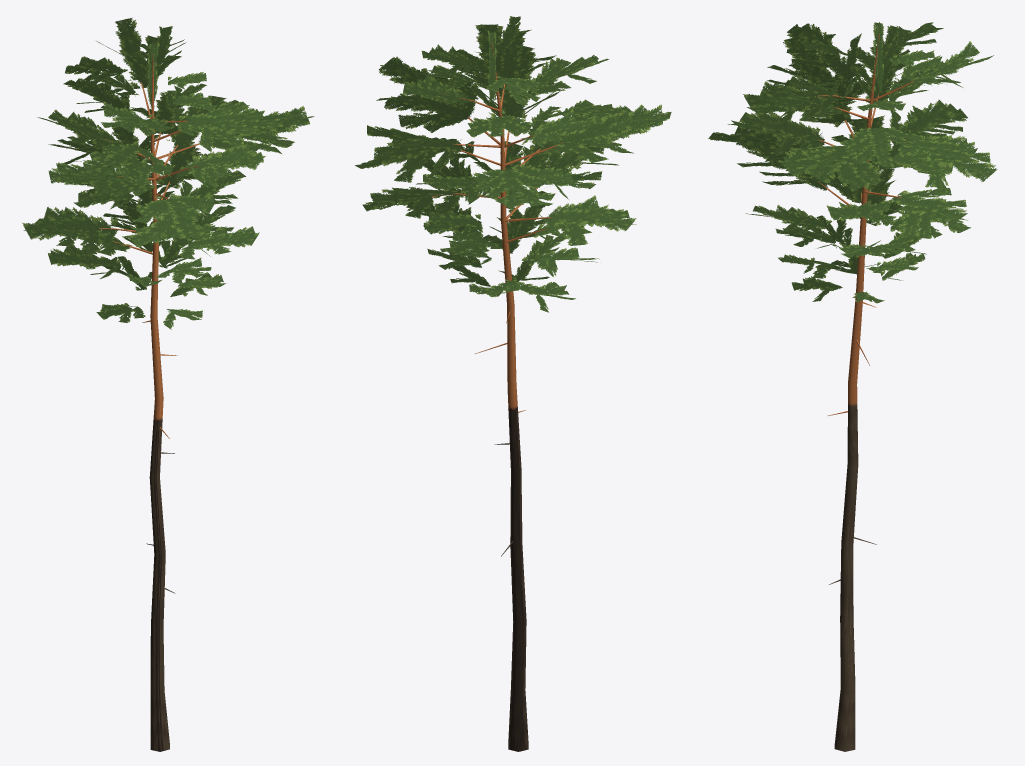
Rendered from near.glb.
3 views of the same model, side by side, from view 1: azimuth 30°, elevation 25°; view 2: azimuth 150°, elevation 25°; view 3: azimuth 270°, elevation 25° (orthographic). The views are drawn at different scales.
Parts seen in each view (by area): view 1: pine_02; view 2: pine_02; view 3: pine_02.
Boxes of the visible parts, bbox=[...] form: pine_02: bbox=[22, 18, 314, 751]; pine_02: bbox=[355, 16, 671, 751]; pine_02: bbox=[708, 22, 997, 751].
Size of the model in its own units: 8.49 by 19.99 by 7.67.
Materials: 2 (2 with a texture image).
